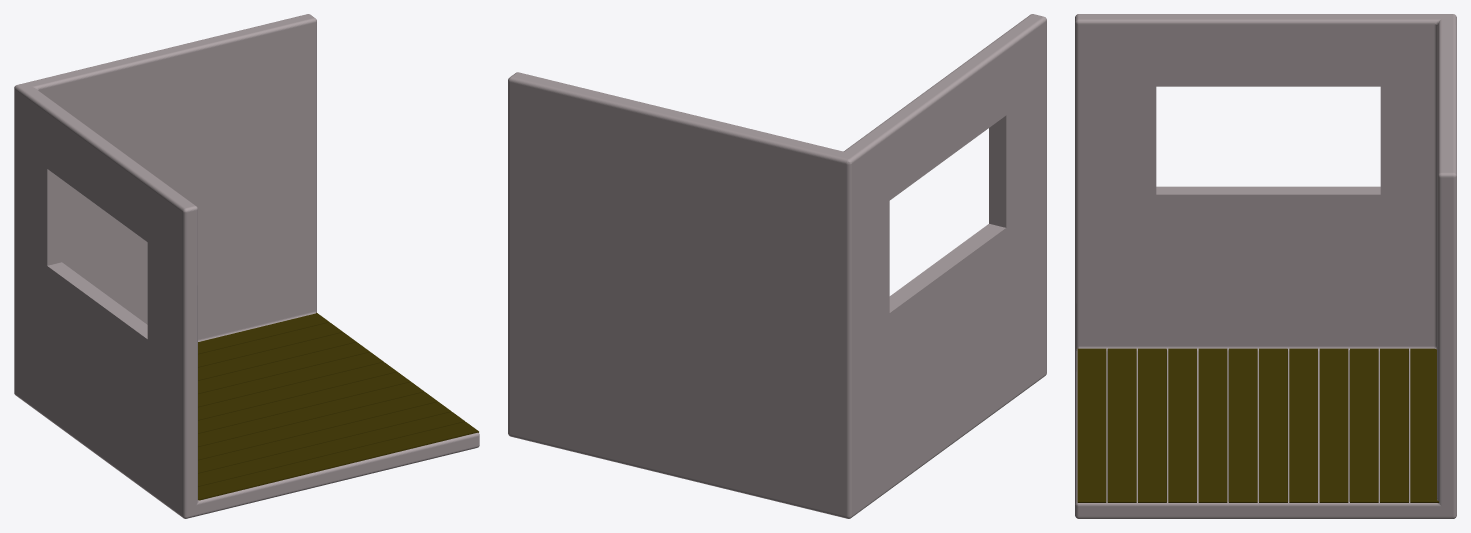
The model's file is room.glb.
The picture shows the model from 3 angles, left to right: view 1: azimuth 30°, elevation 25°; view 2: azimuth 150°, elevation 25°; view 3: azimuth 270°, elevation 25°; orthographic projection. The views are drawn at different scales.
Visible parts, largest first — view 1: Cube.002, Plane; view 2: Cube.002; view 3: Cube.002, Plane.
Boxes of the visible parts, x1,y1,x2,y2 form: Cube.002: (14,14,479,518); Plane: (198,312,478,500); Cube.002: (508,14,1046,518); Cube.002: (1075,14,1456,518); Plane: (1077,348,1438,502).
Size of the model in its own units: 6 by 6 by 6.
